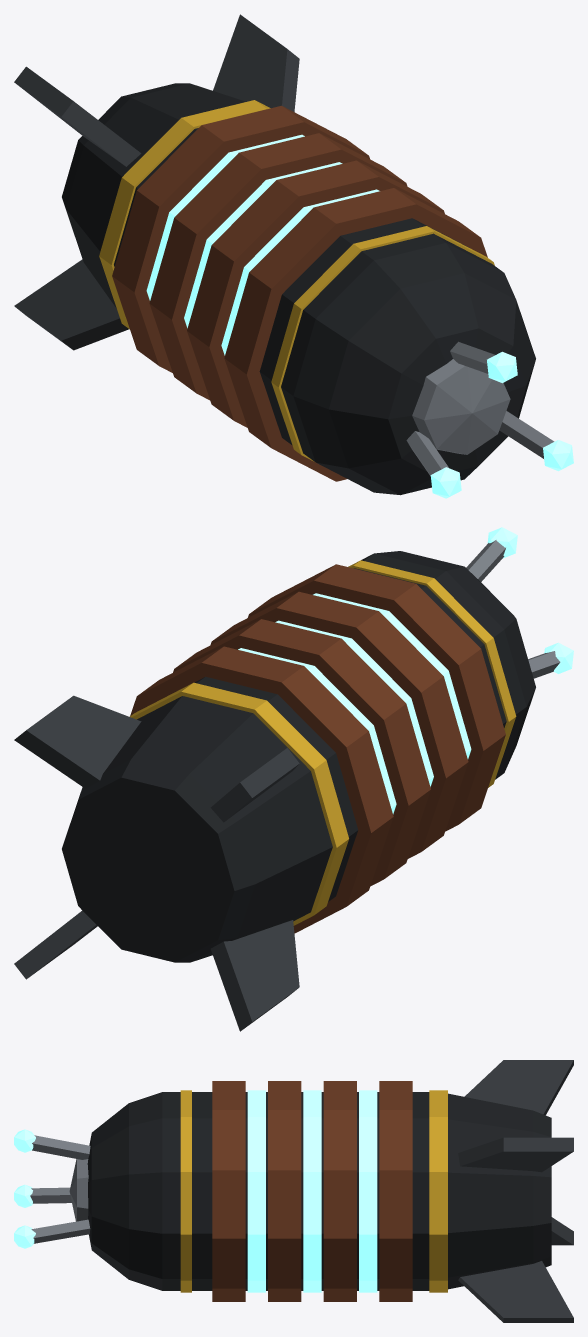
File: shell_emp.fbx
3 renders of one model, top to bottom at view 1: azimuth 30°, elevation 25°; view 2: azimuth 150°, elevation 25°; view 3: azimuth 270°, elevation 25°, orthographic. The views are drawn at different scales.
Visible parts, largest first — view 1: Body, Glow; view 2: Body, Glow; view 3: Body, Glow.
Part boxes in pixels (left/top/right/bottom): Body: left=14, top=14, right=554, bottom=495; Glow: left=146, top=134, right=573, bottom=498; Body: left=14, top=540, right=560, bottom=1031; Glow: left=238, top=527, right=573, bottom=814; Body: left=30, top=1060, right=573, bottom=1322; Glow: left=14, top=1090, right=377, bottom=1292.
Bounding box in the file's own units: 60 × 57.06 × 151.
2 materials, 1 textured.
